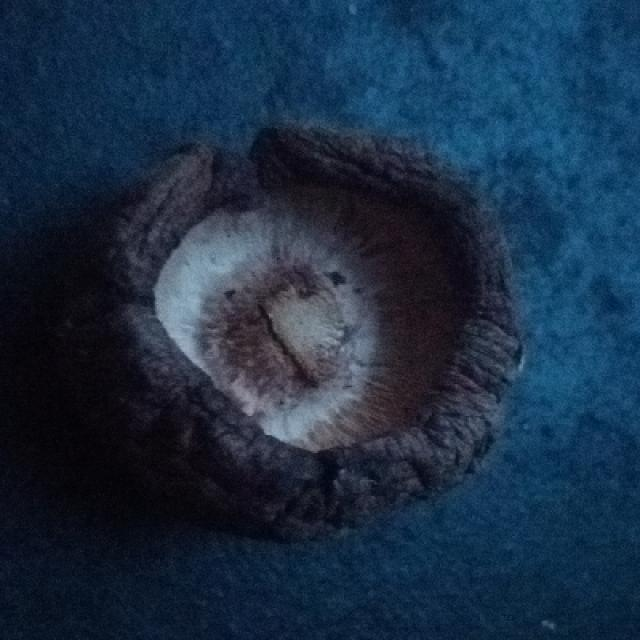Lentinus edodes: (103, 122, 531, 520)
